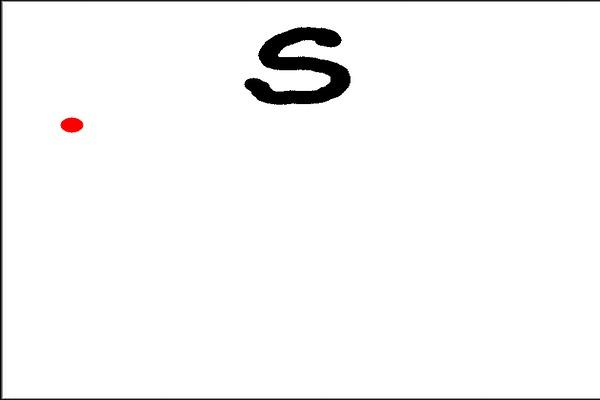S: (237, 16, 353, 109)
